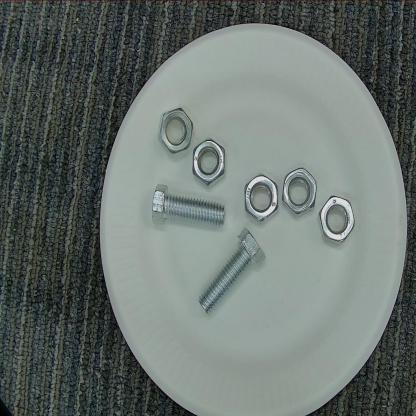FOD: (192, 227, 266, 315), (148, 182, 231, 230), (319, 192, 357, 246), (281, 166, 320, 217), (242, 173, 280, 225), (158, 102, 193, 156), (192, 137, 227, 191)
